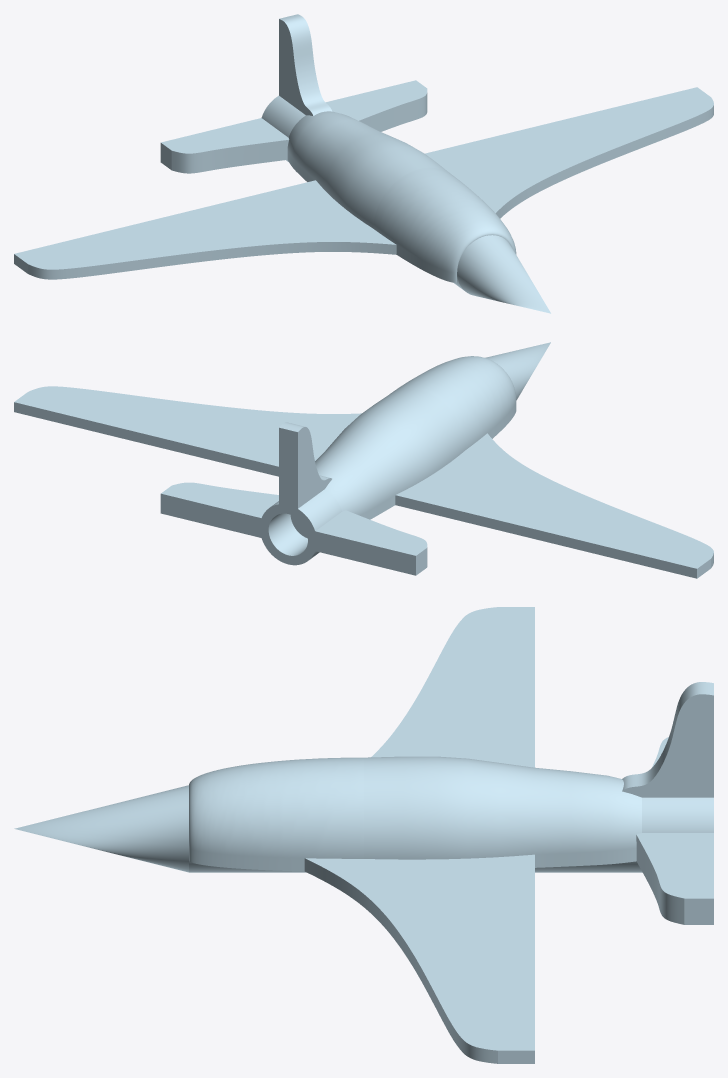
The model's file is CPJ.glb.
3 views of the same model, one above another, from view 1: azimuth 30°, elevation 25°; view 2: azimuth 150°, elevation 25°; view 3: azimuth 270°, elevation 25° (orthographic). The views are drawn at different scales.
Visible parts, largest first — view 1: ID3; view 2: ID3; view 3: ID3.
Part boxes in pixels (x1=…): ID3: x1=14, y1=14, x2=713, y2=313; ID3: x1=14, y1=342, x2=713, y2=578; ID3: x1=14, y1=607, x2=713, y2=1063.
Bounding box in the file's own units: 10.97 × 2.08 × 7.32.
